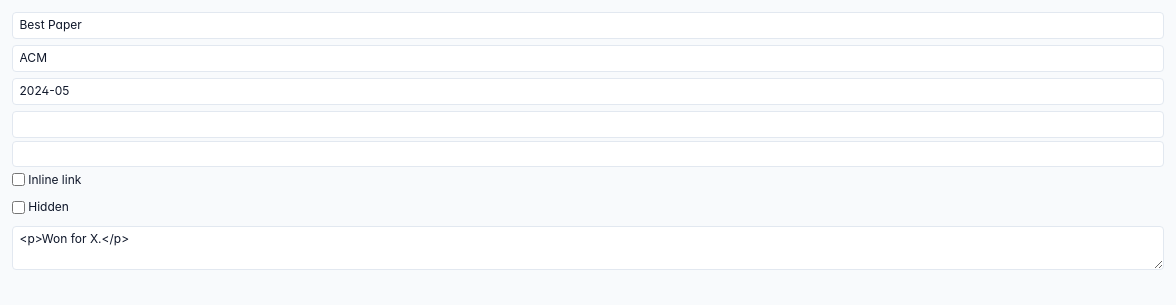
AwardsDialog (AC-06, AC-16, AC-18, AC-19) › URL scheme blacklist rejects javascript: (AC-16)
This screenshot has width=1176, height=305.
Type "javascript:alert(1)" into the field with test id "awards-website-url" at (588, 124), box [12,111,1164,138]
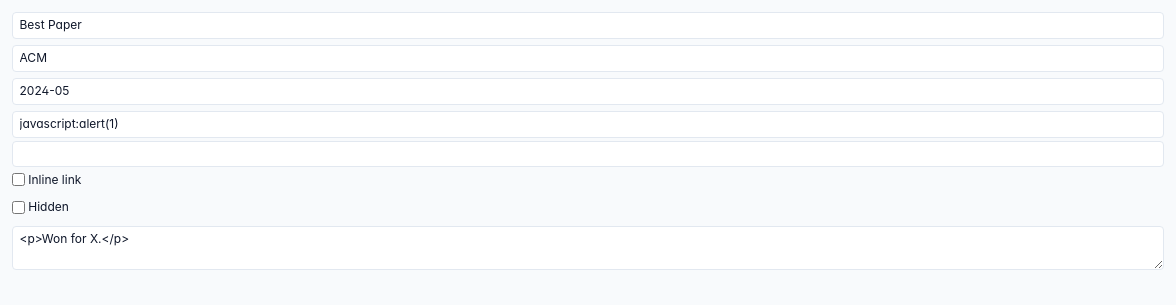
Leave the field with test id "awards-website-url", box [12,111,1164,138]
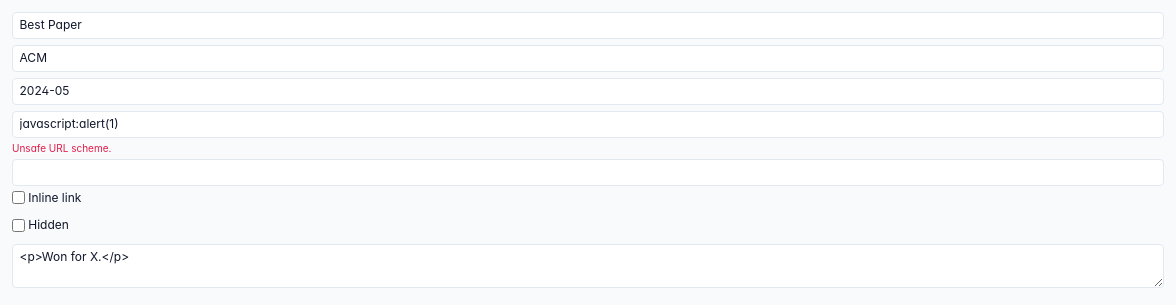
Expected: the text "Unsafe URL scheme." is shown, [12,142,111,154]
